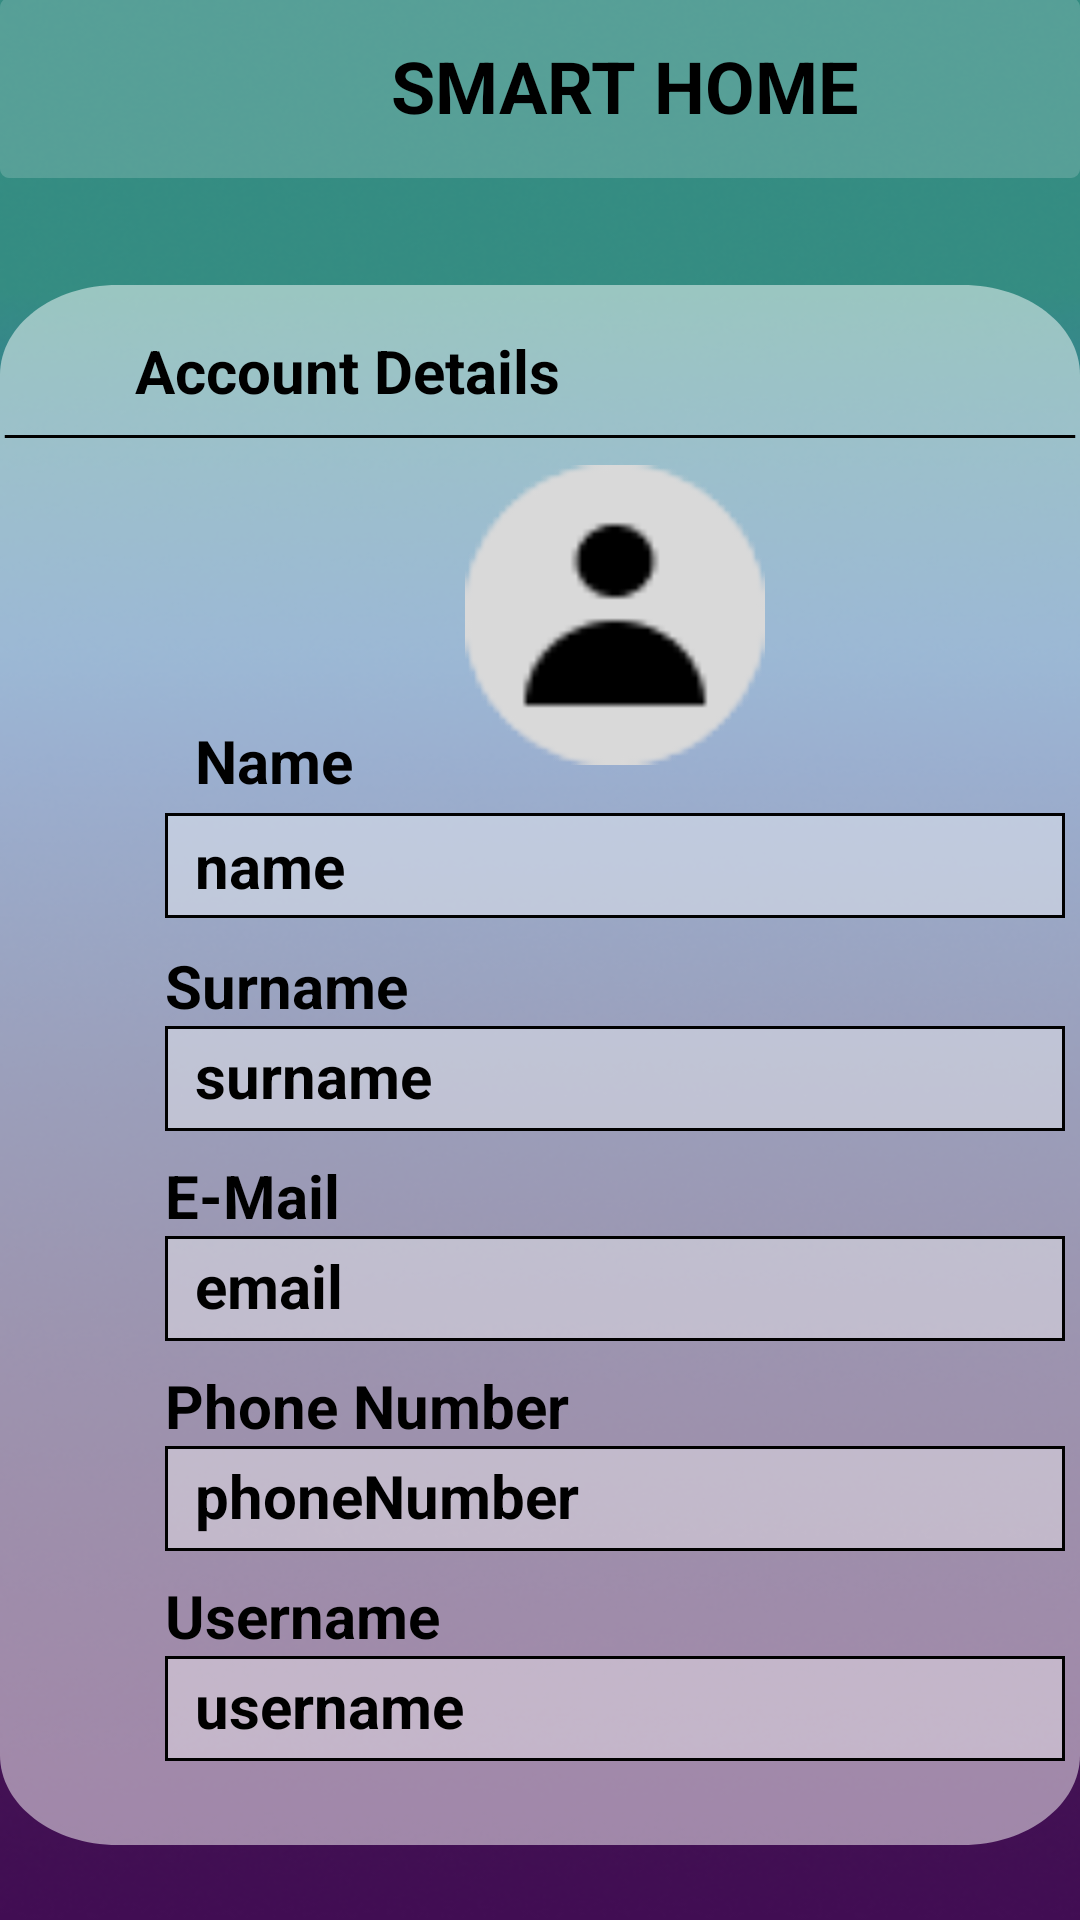

Point at icon controls on the screen. Image size 1080×1920, points as (x=x, y=y).
user: (x=615, y=615)
